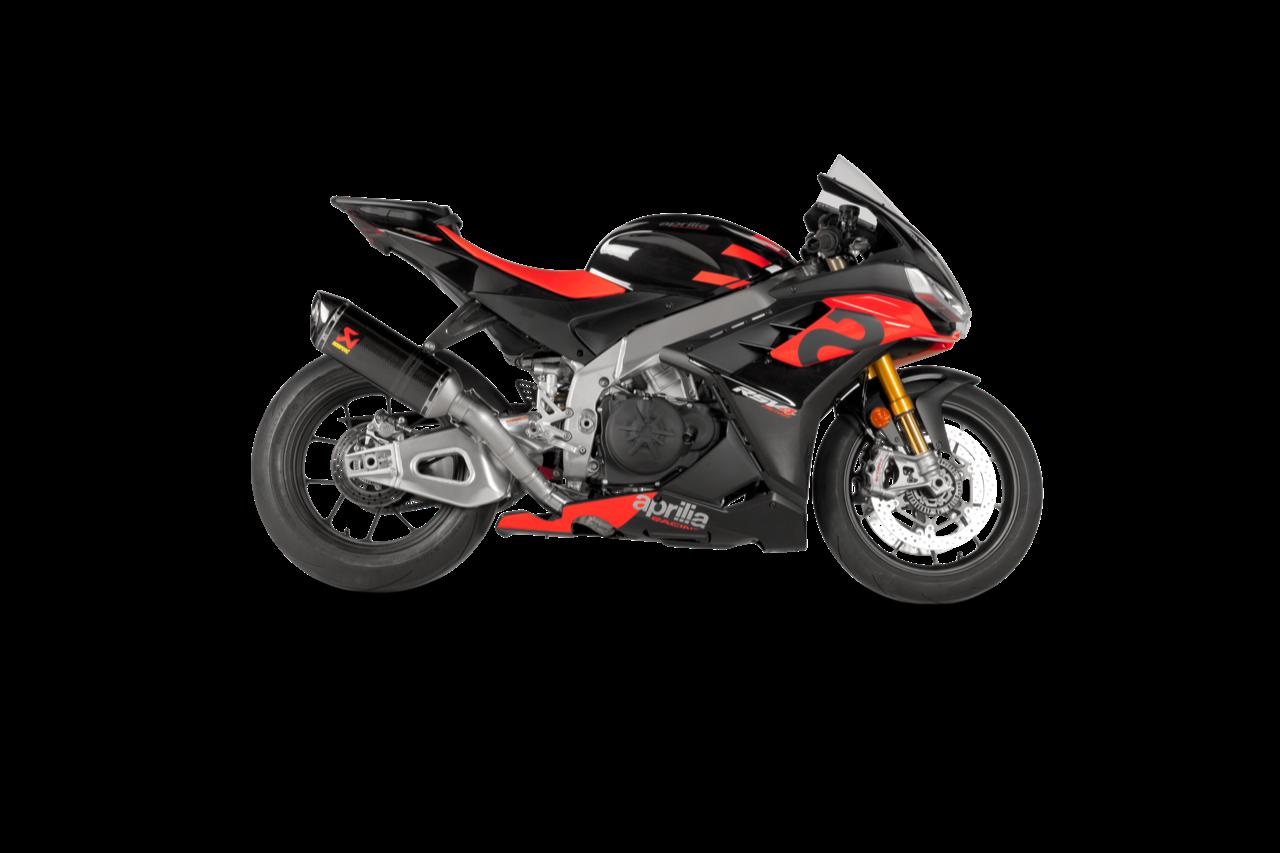engine-chasis: (495, 346, 807, 552)
exhaust: (310, 290, 578, 517), (573, 516, 616, 537)
frontside: (562, 155, 981, 500)
handlebar: (796, 204, 871, 265)
motorbike: (251, 154, 1043, 602)
rearside: (346, 210, 706, 479), (344, 428, 527, 513)
seat: (436, 224, 626, 299), (330, 196, 462, 236)
tank: (585, 214, 797, 299)
wheel: (251, 355, 500, 592), (813, 384, 1043, 605), (833, 367, 876, 441)
